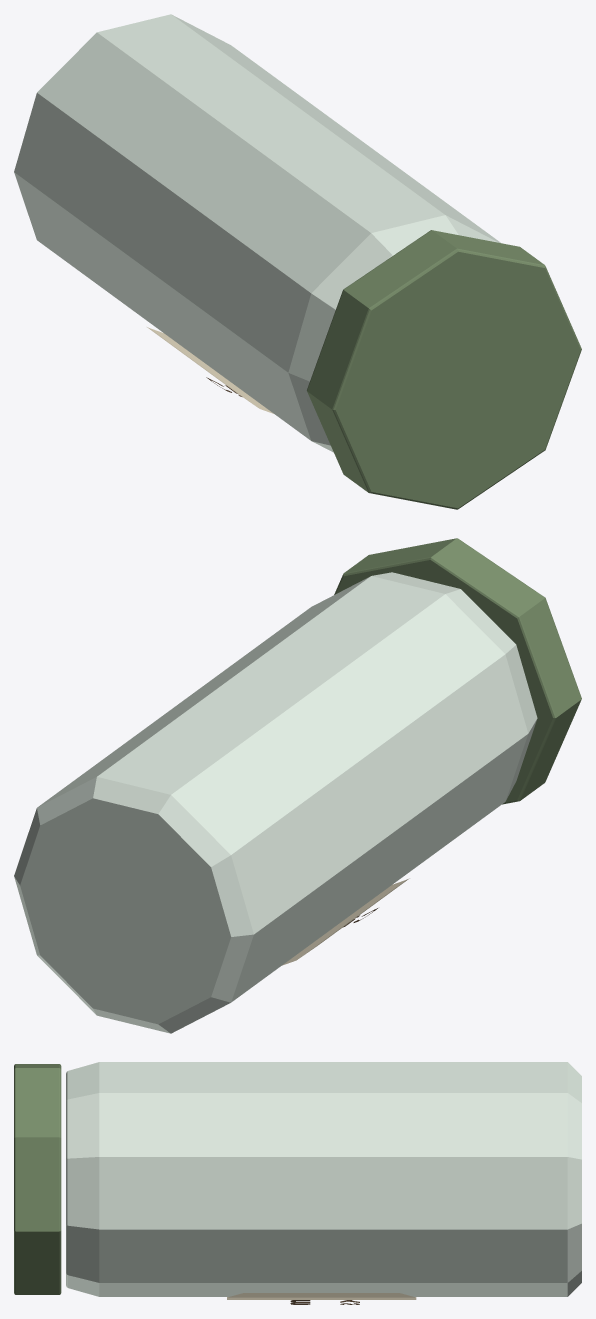
File: cinnamon_sticks.glb
3 renders of one model, top to bottom at view 1: azimuth 30°, elevation 25°; view 2: azimuth 150°, elevation 25°; view 3: azimuth 270°, elevation 25°, orthographic. The views are drawn at different scales.
Visible parts, largest first — view 1: cinnamon_sticks; view 2: cinnamon_sticks; view 3: cinnamon_sticks.
Boxes of the visible parts, x1=… form: cinnamon_sticks: x1=14, y1=14, x2=581, y2=509; cinnamon_sticks: x1=14, y1=538, x2=581, y2=1033; cinnamon_sticks: x1=14, y1=1062, x2=581, y2=1304.
Bounding box in the file's own units: 0.052 × 0.0525 × 0.12.
